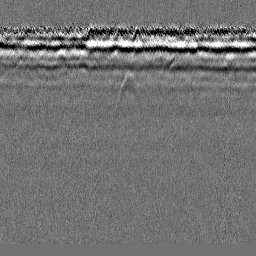cavity: (114, 70, 142, 118)
